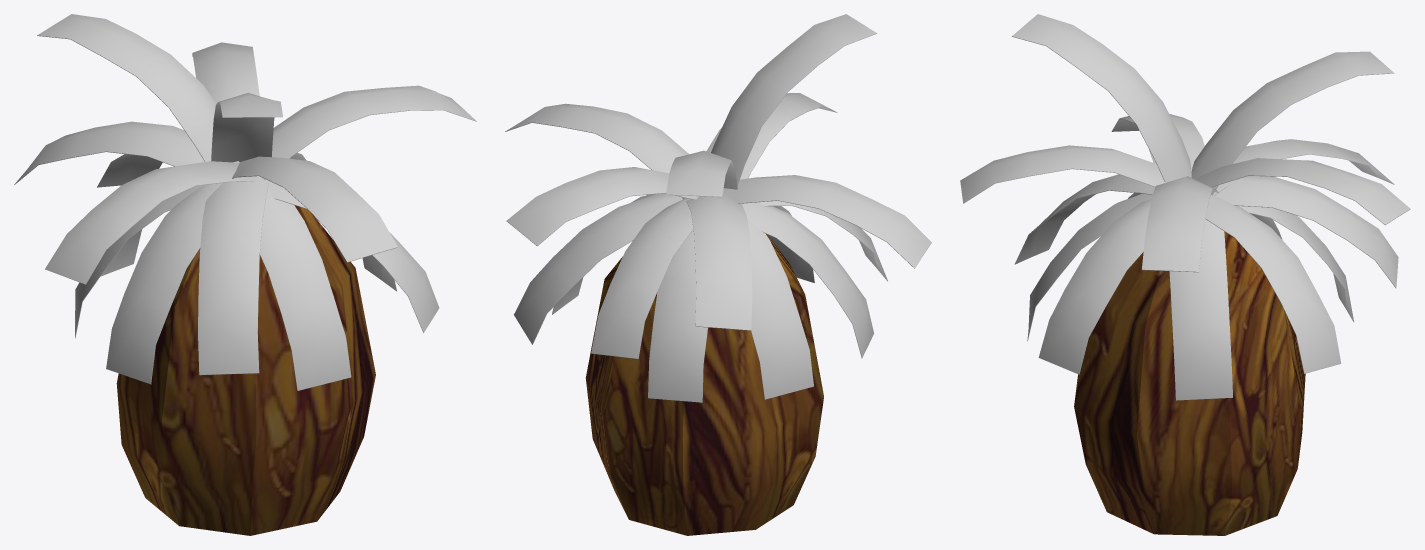
Rendered from Small_tree.fbx.
3 renders of one model, left to right at view 1: azimuth 30°, elevation 25°; view 2: azimuth 150°, elevation 25°; view 3: azimuth 270°, elevation 25°, orthographic. The views are drawn at different scales.
Parts seen in each view (by area): view 1: Small_tree; view 2: Small_tree; view 3: Small_tree.
Part boxes in pixels (box(x1,y1,x2,y2)): Small_tree: box(14, 14, 476, 535); Small_tree: box(505, 14, 931, 535); Small_tree: box(960, 14, 1410, 535).
Size of the model in its own units: 4.62 by 4.87 by 4.51.
